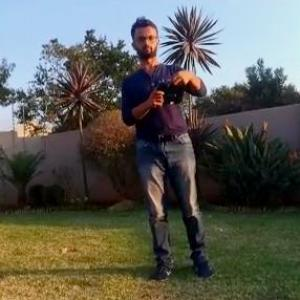follow: (116, 6, 220, 288)
